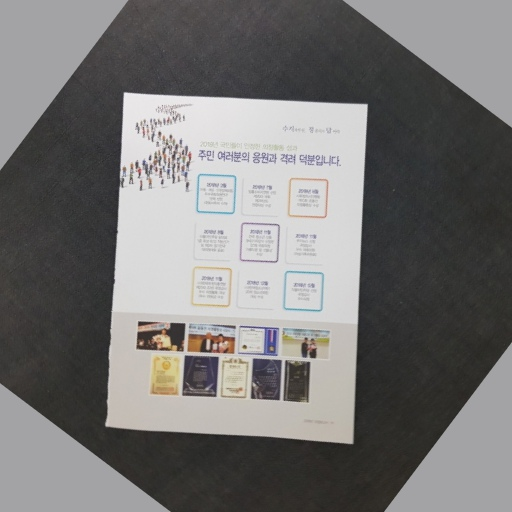Paper_2: (104, 84, 367, 448)
